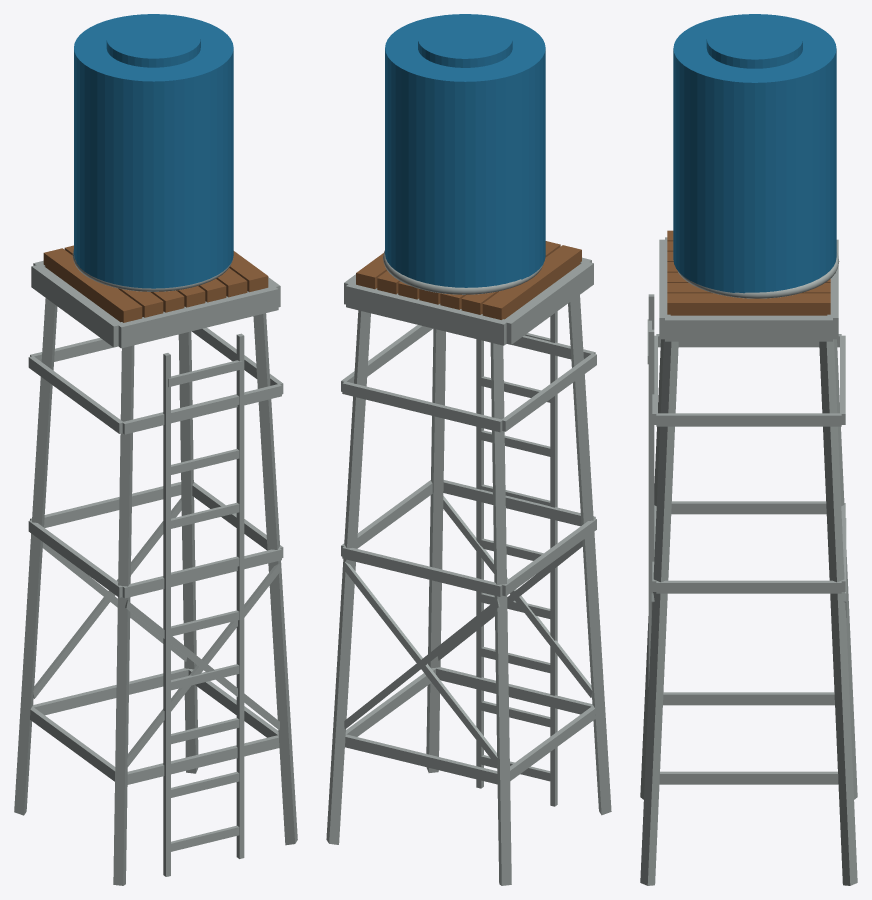
Rendered from torre.glb.
3 views of the same model, side by side, from view 1: azimuth 30°, elevation 25°; view 2: azimuth 150°, elevation 25°; view 3: azimuth 270°, elevation 25° (orthographic). The views are drawn at different scales.
Visible parts, largest first — view 1: Caixa d’água | tanque azul, Torre | perna estrutural, Torre | perna estrutural.002, Torre | perna estrutural.001, Torre | montante da escada.001, Torre | perna estrutural.003, Torre | viga da plataforma, Torre | montante da escada, Caixa d’água | tampa, Torre | viga da plataforma.002, Torre | piso 1, Torre | travessa lateral (+28 smaller); view 2: Caixa d’água | tanque azul, Torre | perna estrutural.001, Torre | perna estrutural.003, Torre | perna estrutural, Torre | perna estrutural.002, Torre | viga da plataforma.001, Caixa d’água | tampa, Torre | montante da escada, Torre | viga da plataforma.002, Torre | montante da escada.001, Torre | piso 1, Torre | travessa lateral.005 (+21 smaller); view 3: Caixa d’água | tanque azul, Torre | perna estrutural.002, Torre | perna estrutural.003, Torre | viga da plataforma.003, Caixa d’água | tampa, Torre | piso 7, Torre | travessa frontal.005, Torre | travessa frontal.003, Torre | travessa frontal.001, Torre | travessa frontal, Torre | travessa frontal.002, Torre | montante da escada.001 (+8 smaller).
Boxes of the visible parts, box(x1,y1,x2,y2) form: Caixa d’água | tanque azul: box(74, 14, 233, 288); Torre | perna estrutural: box(113, 345, 134, 885); Torre | perna estrutural.002: box(253, 313, 297, 845); Torre | perna estrutural.001: box(14, 298, 57, 815); Torre | montante da escada.001: box(236, 333, 244, 858); Torre | perna estrutural.003: box(178, 331, 198, 773); Torre | viga da plataforma: box(116, 285, 278, 348); Torre | montante da escada: box(163, 353, 170, 876); Caixa d’água | tampa: box(106, 18, 200, 67); Torre | viga da plataforma.002: box(31, 264, 122, 347); Torre | piso 1: box(43, 248, 142, 322); Torre | travessa lateral: box(127, 735, 279, 784); Caixa d’água | tanque azul: box(385, 14, 545, 287); Torre | perna estrutural.001: box(490, 342, 511, 885); Torre | perna estrutural.003: box(326, 310, 370, 844); Torre | perna estrutural: box(568, 295, 611, 815); Torre | perna estrutural.002: box(426, 328, 445, 772); Torre | viga da plataforma.001: box(346, 282, 506, 345); Caixa d’água | tampa: box(418, 19, 512, 67); Torre | montante da escada: box(550, 311, 557, 806); Torre | viga da plataforma.002: box(502, 262, 593, 344); Torre | montante da escada.001: box(476, 339, 483, 788); Torre | piso 1: box(482, 245, 581, 319); Torre | travessa lateral.005: box(342, 381, 502, 432); Caixa d’água | tanque azul: box(673, 14, 836, 293); Torre | perna estrutural.002: box(640, 339, 678, 885); Torre | perna estrutural.003: box(819, 339, 857, 885); Torre | viga da plataforma.003: box(665, 315, 832, 341); Caixa d’água | tampa: box(706, 19, 802, 68); Torre | piso 7: box(667, 293, 830, 315); Torre | travessa frontal.005: box(656, 413, 841, 426); Torre | travessa frontal.003: box(656, 580, 841, 593); Torre | travessa frontal.001: box(659, 771, 838, 784); Torre | travessa frontal: box(663, 692, 834, 705); Torre | travessa frontal.002: box(671, 501, 826, 514); Torre | montante da escada.001: box(648, 329, 654, 686).
Size of the model in its own units: 1.76 by 7.21 by 1.76.
